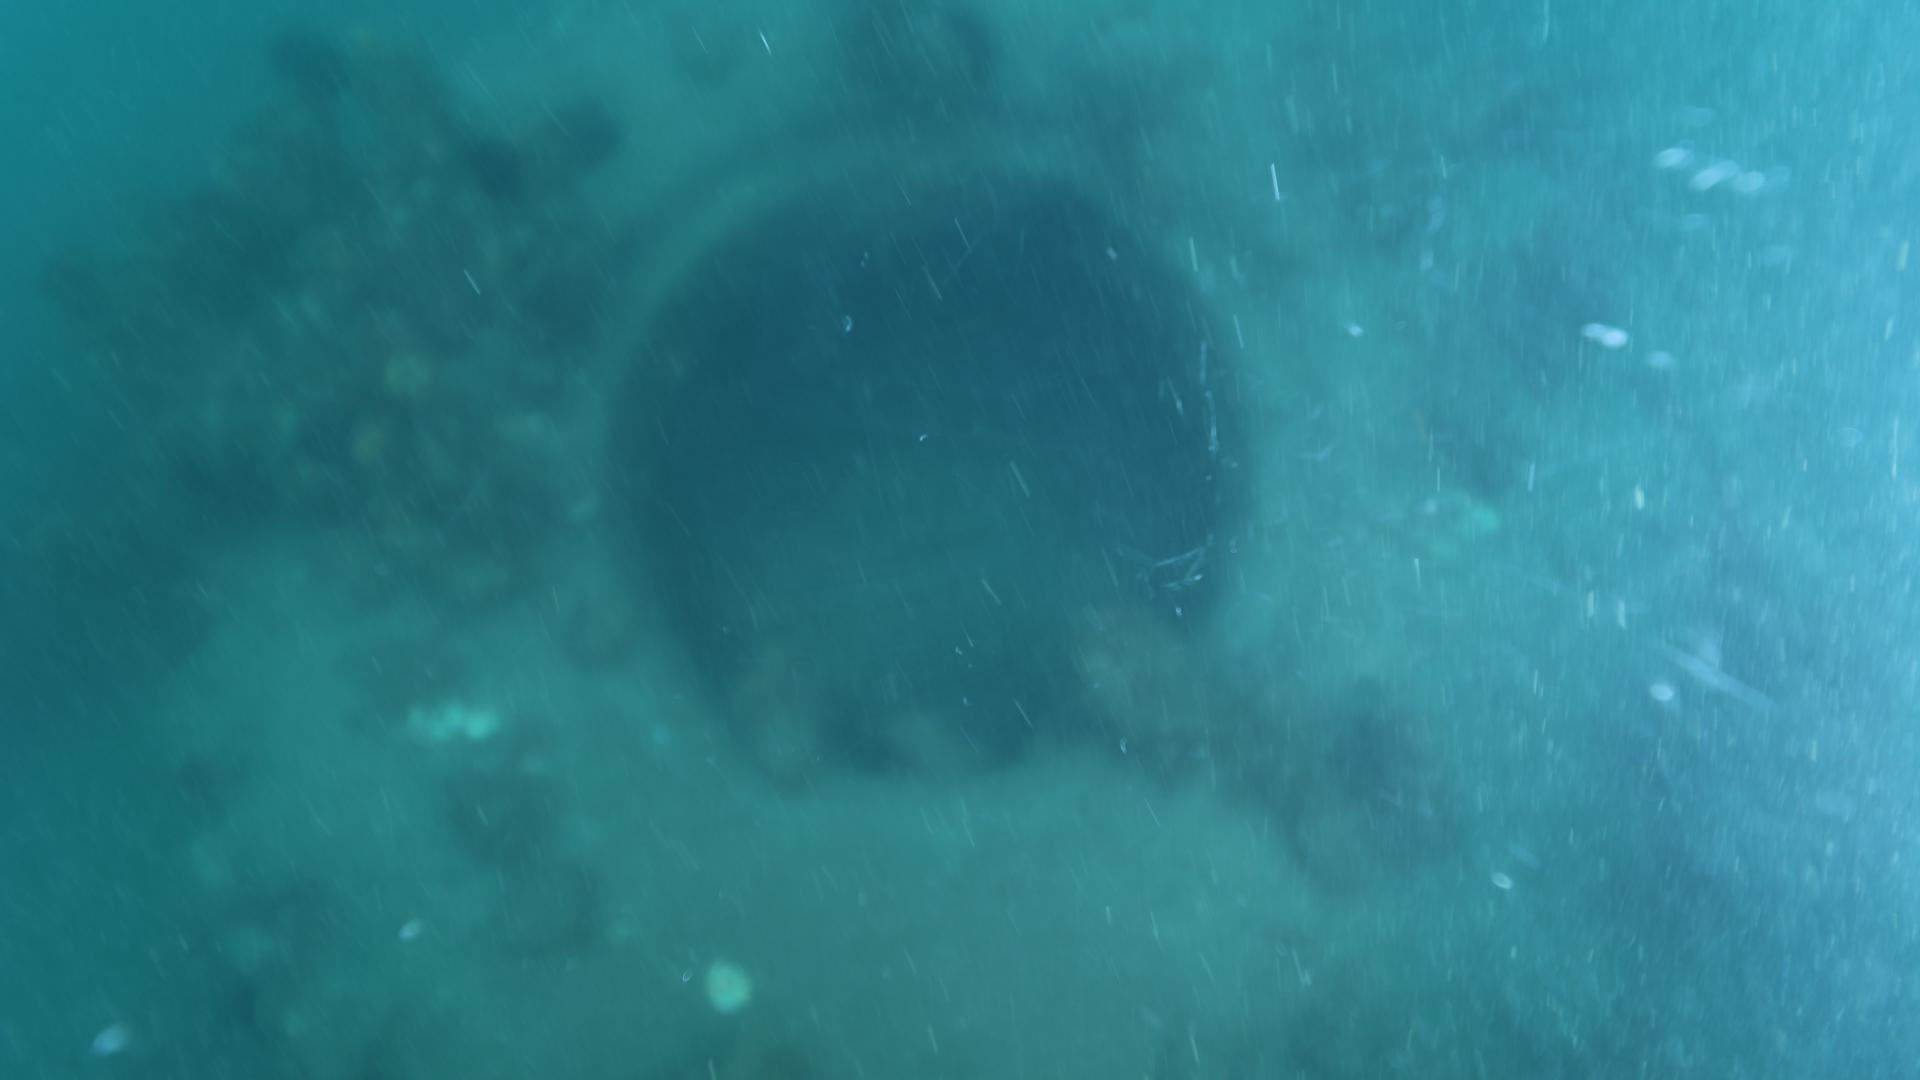tire: (160, 3, 1720, 1079)
